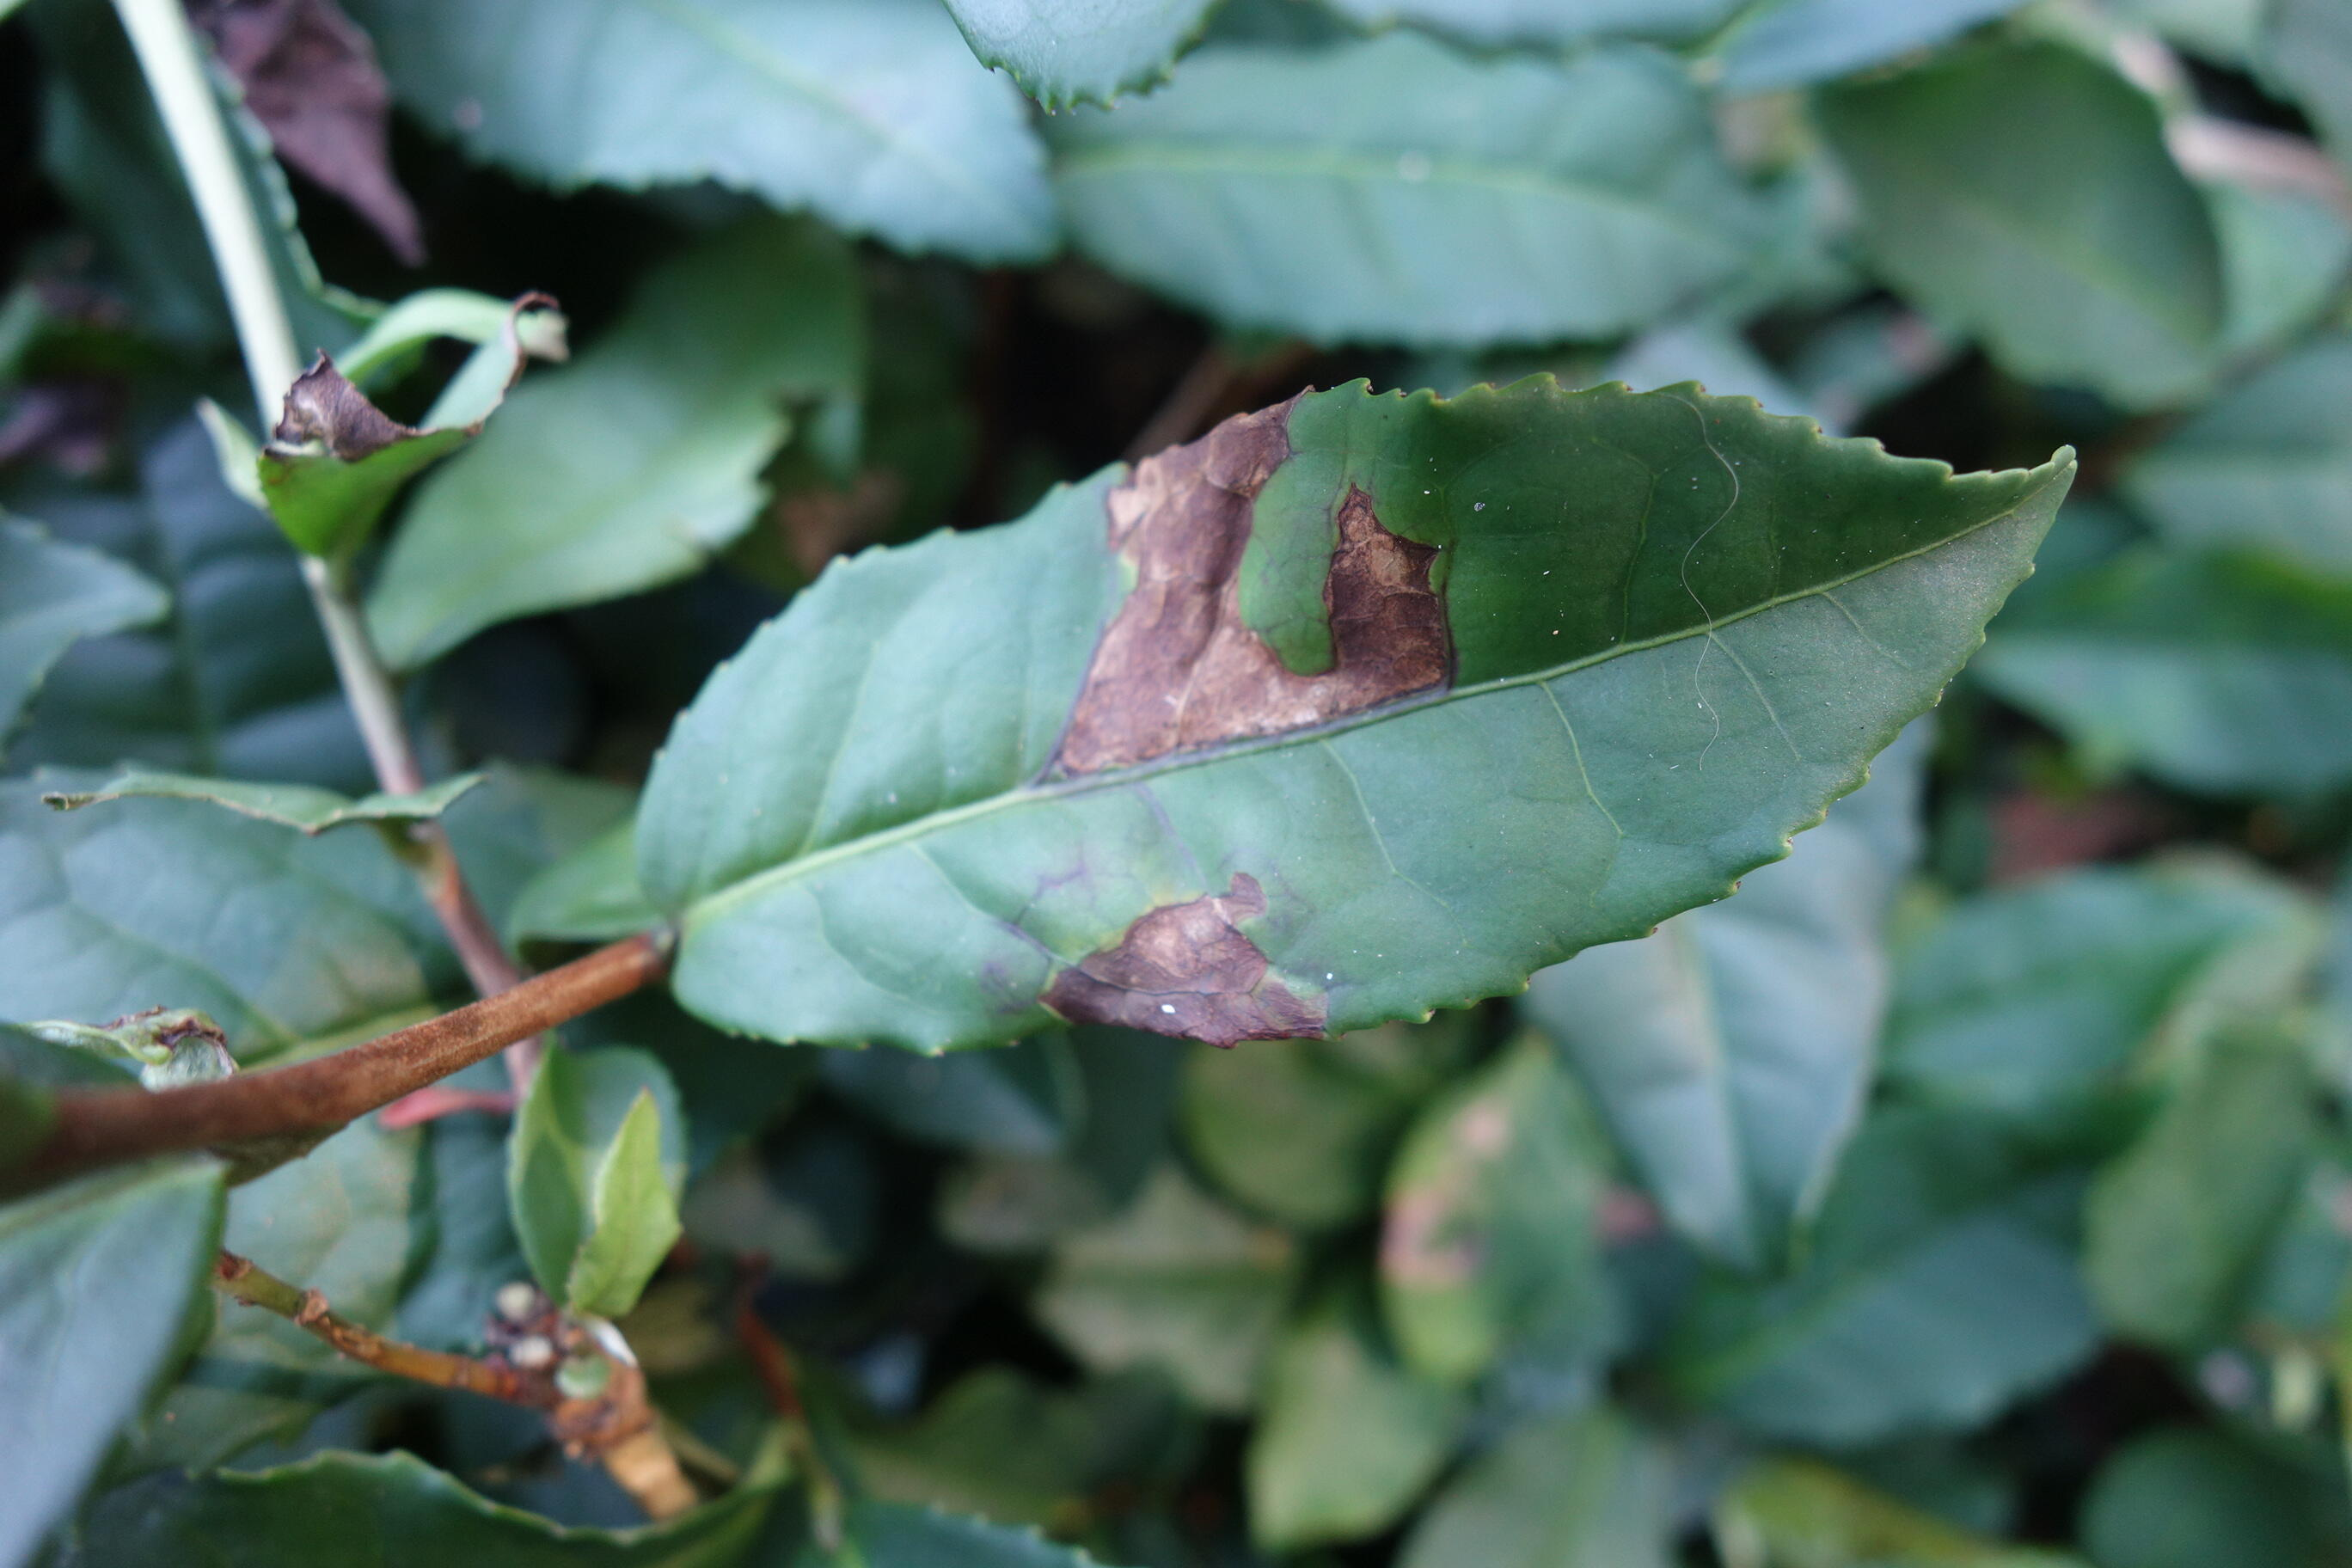tanju_high: (618, 378, 2082, 1078)
